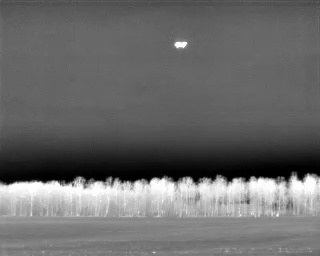DRONE: (171, 37, 191, 54)
